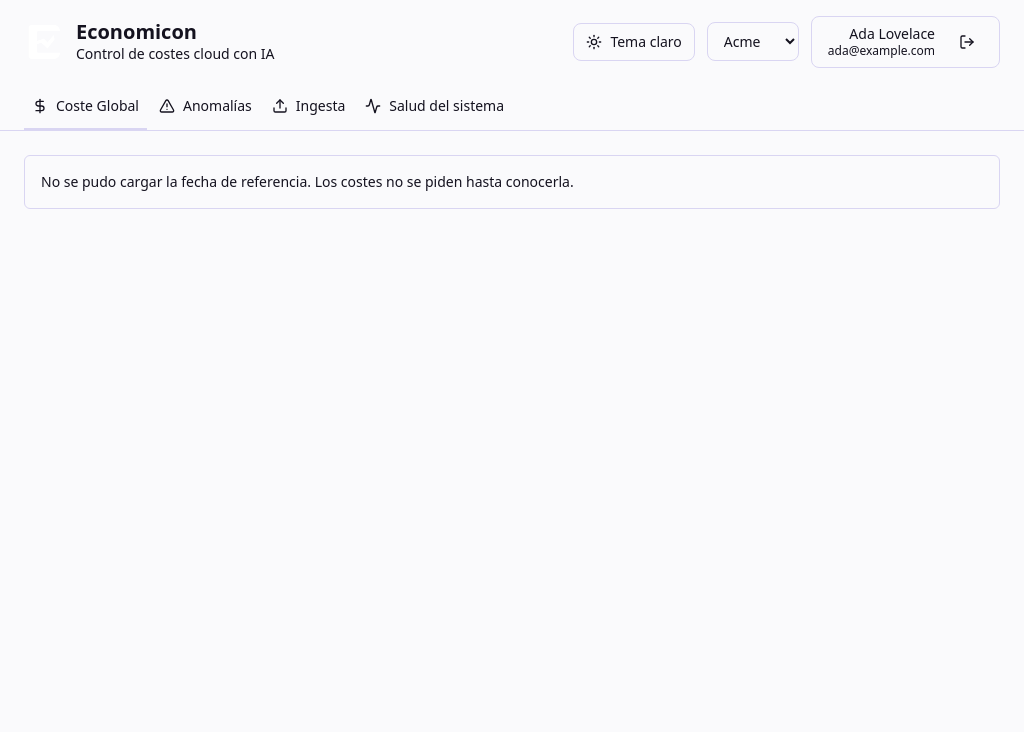
it: Arbol de rutas real: el ambito activo sobrevive a la navegacion › conserva el tenant seleccionado tras navegar de la raiz a /ingest
Select "Globex" in the dropdown named "ámbito de cliente": (753, 42) [707,22,799,61]
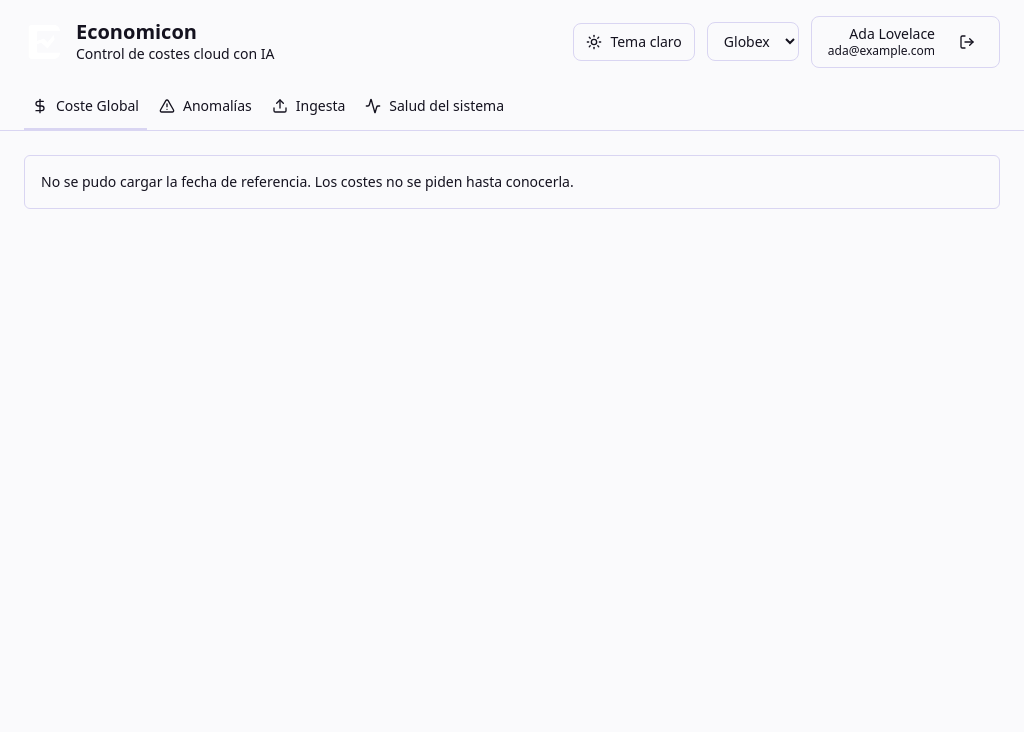
Click the link "Ingesta": (309, 105) [272,96,345,114]
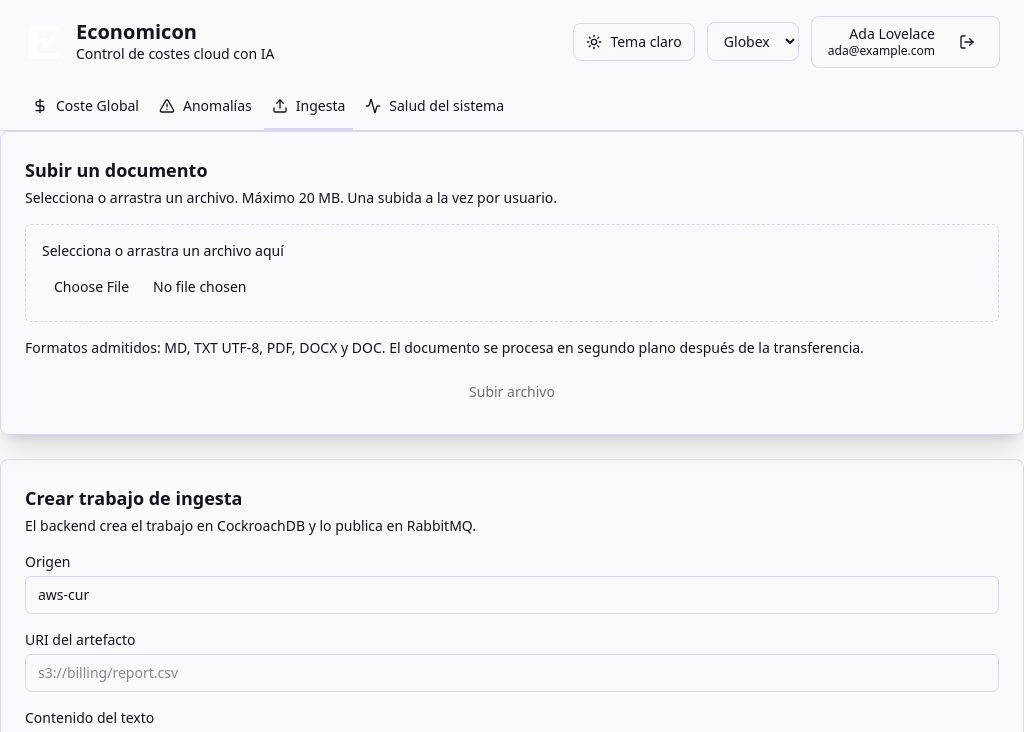
expect the heading "Crear trabajo de ingesta" is shown: met, box [25,486,242,510]
